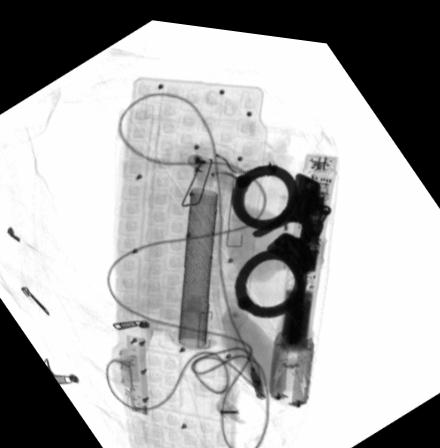Baton: (270, 146, 337, 397)
HandCuffs: (230, 155, 331, 314)
